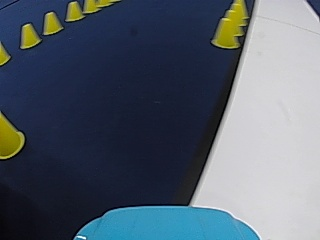cone: (0, 111, 25, 157), (210, 13, 241, 48), (226, 2, 247, 30), (19, 22, 40, 48), (42, 11, 62, 34), (65, 1, 82, 21), (0, 40, 11, 65), (84, 0, 96, 12)
